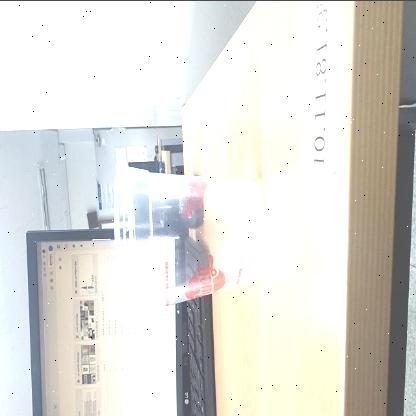Others: (114, 153, 270, 333)
